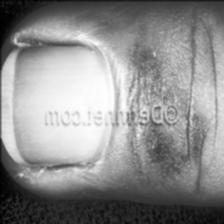Unclassified: (122, 58, 190, 190)
